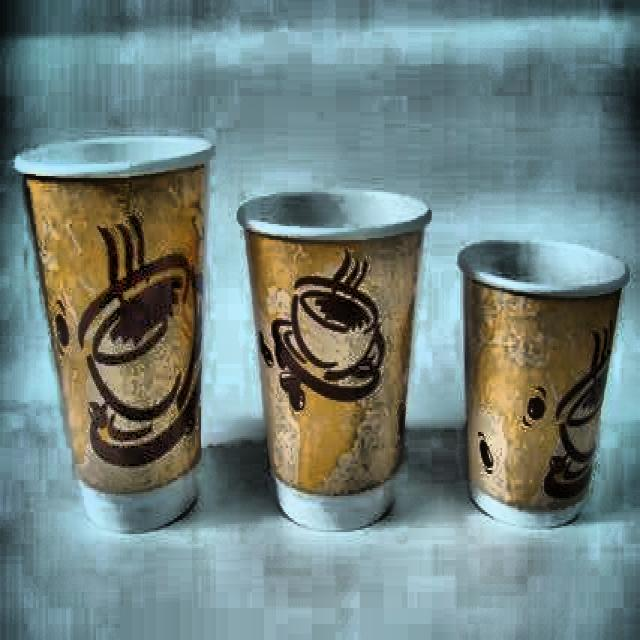Cup: (11, 122, 222, 546), (231, 175, 437, 536), (459, 226, 632, 541)
